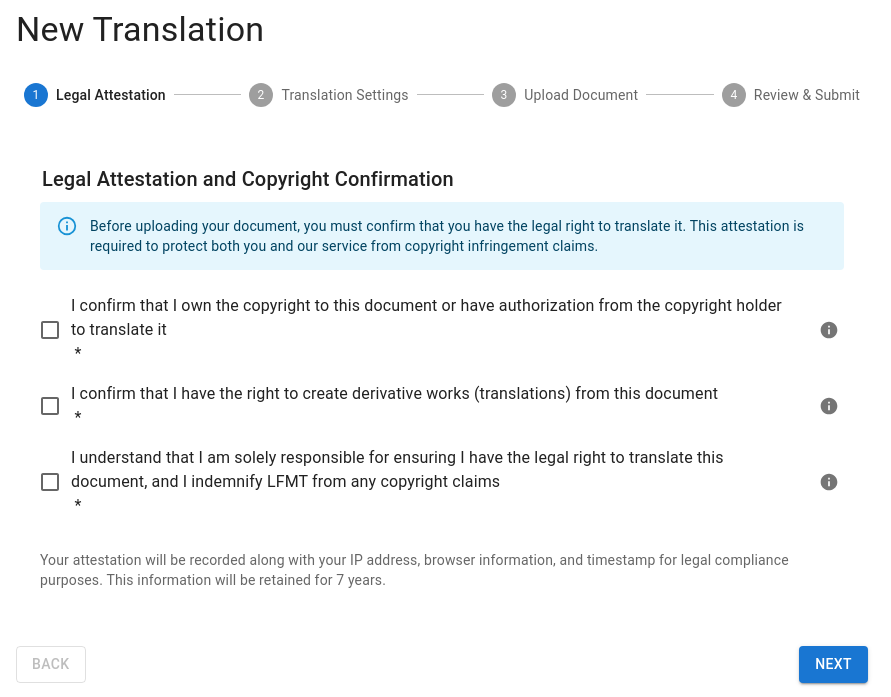
TranslationUpload › Step 2: Translation Settings Validation › should show validation errors when clicking Next without selecting language and tone
Click the checkbox labelled "I confirm that I own the copyright" at x=426, y=306, box left=29, top=294, right=798, bottom=366
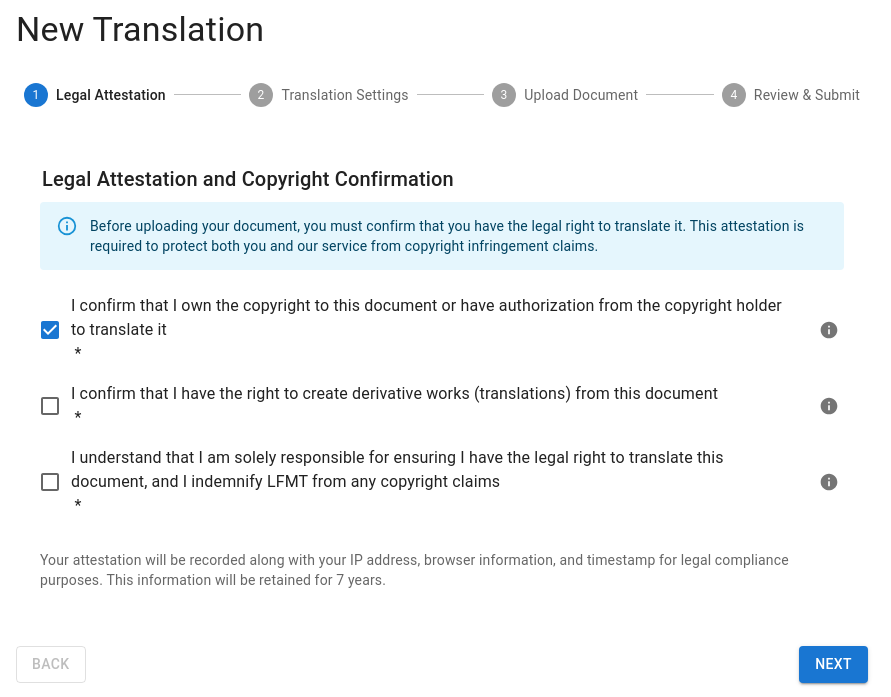
Click the checkbox labelled "I confirm that I have the right to create derivative works" at x=414, y=406, box left=29, top=382, right=798, bottom=430
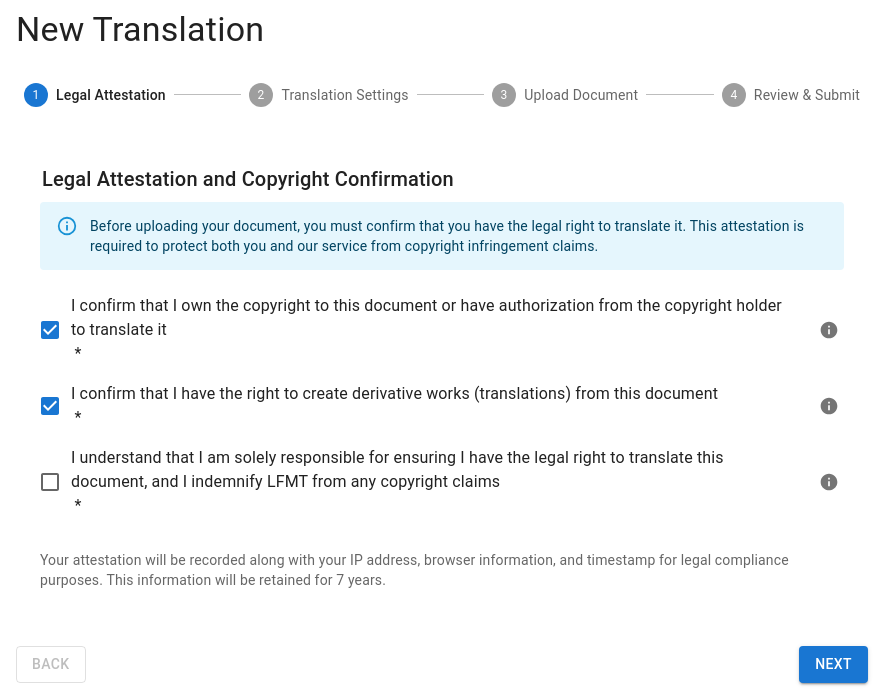
Click the checkbox labelled "I understand that I am solely responsible" at x=414, y=482, box left=29, top=446, right=798, bottom=518
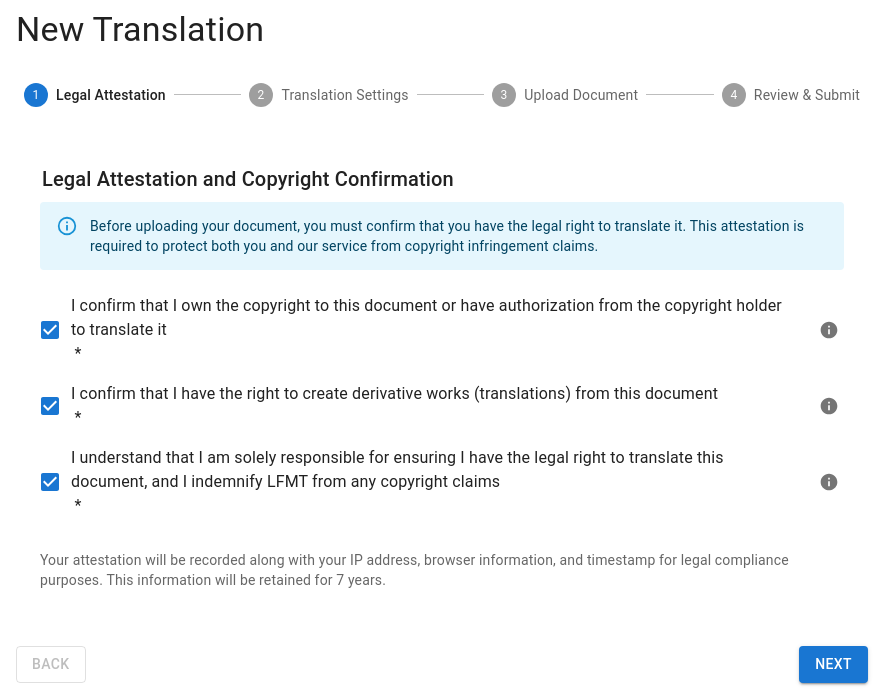
Click the button "Next" at x=834, y=664, box left=799, top=646, right=868, bottom=682
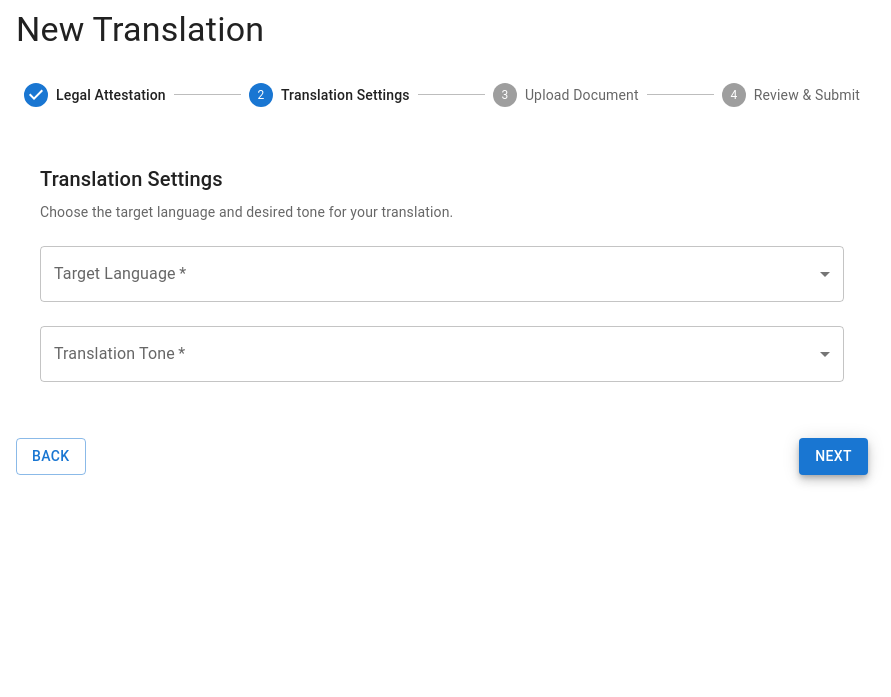
Result: the 1st dropdown named "Target Language" is shown at left=40, top=246, right=844, bottom=302
Click the button "Next" at x=834, y=456, box left=799, top=438, right=868, bottom=474
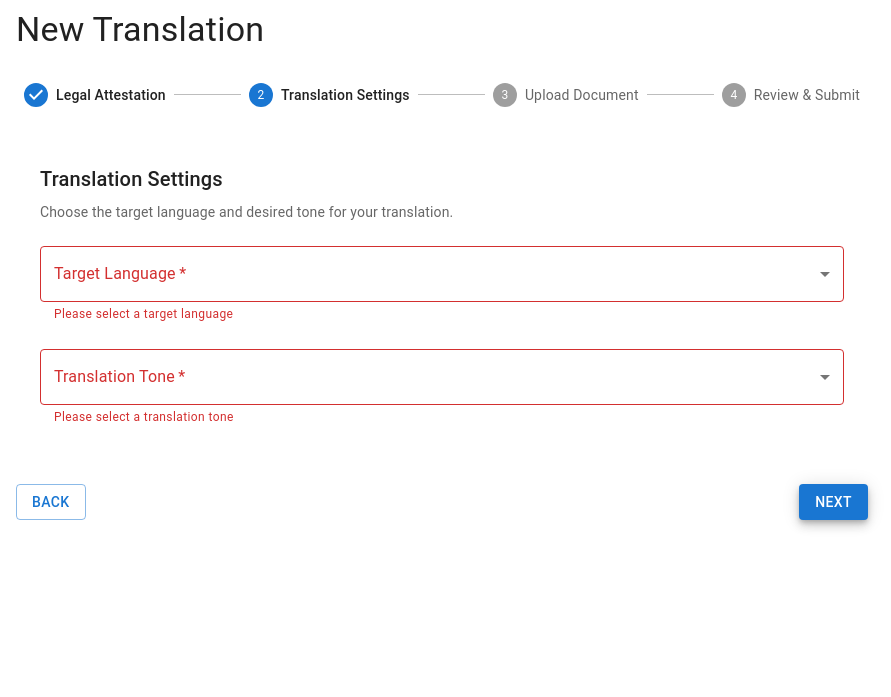
Result: the text "Please select a target language" is shown at left=54, top=307, right=233, bottom=321
Result: the text "Please select a translation tone" is shown at left=54, top=410, right=234, bottom=424
